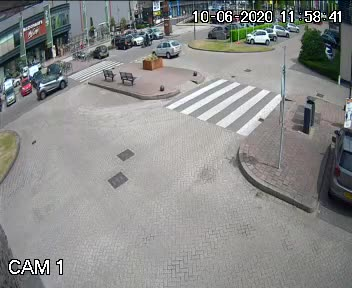car: (30, 70, 68, 99), (149, 38, 181, 60)
